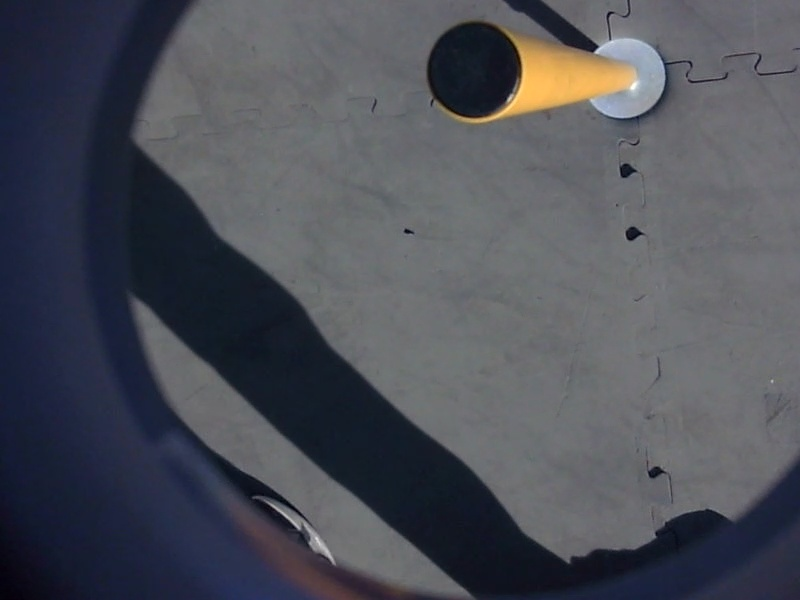tip: (415, 12, 530, 136)
